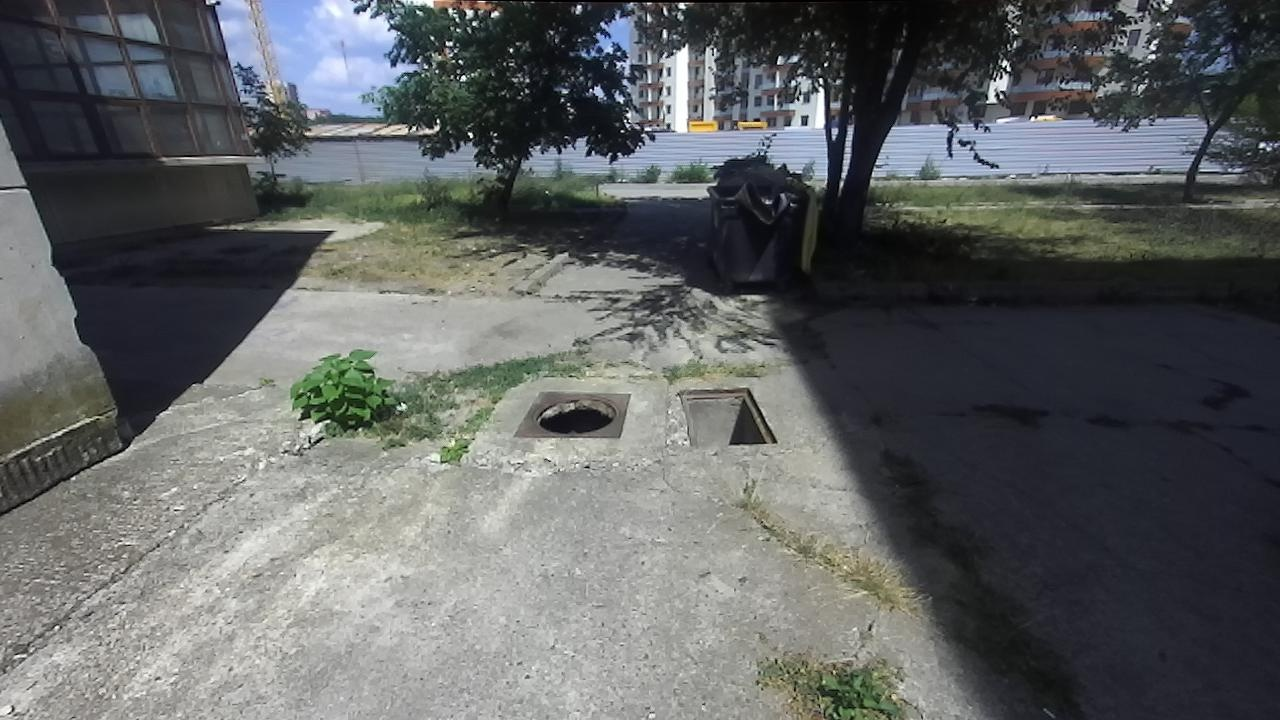drain: (673, 381, 778, 449), (529, 392, 618, 435)
